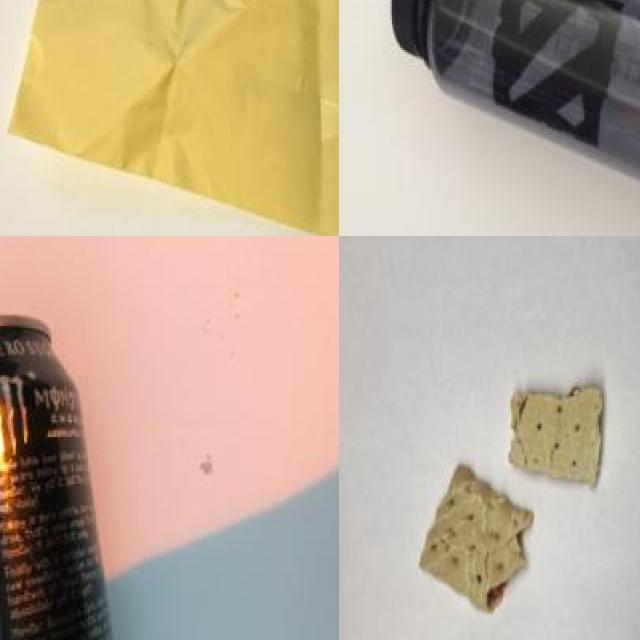compost: (410, 365, 626, 634)
paper: (18, 0, 339, 236)
plastic: (349, 0, 640, 208), (0, 304, 155, 640)
